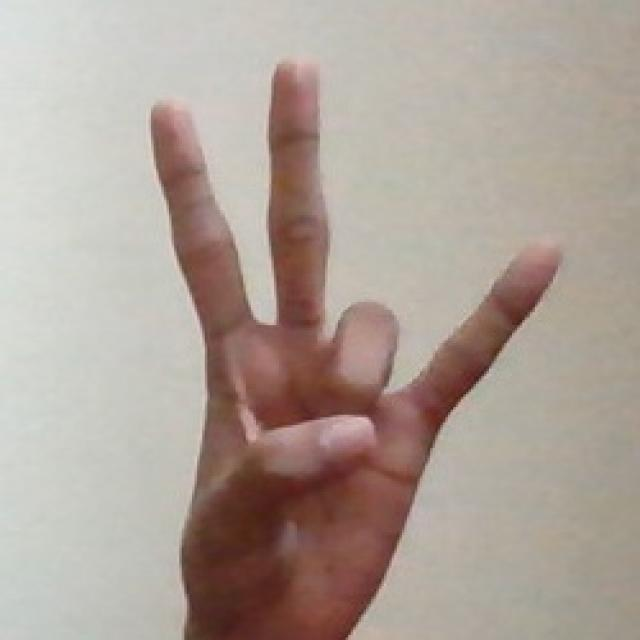Numeric-7: (134, 44, 555, 606)
